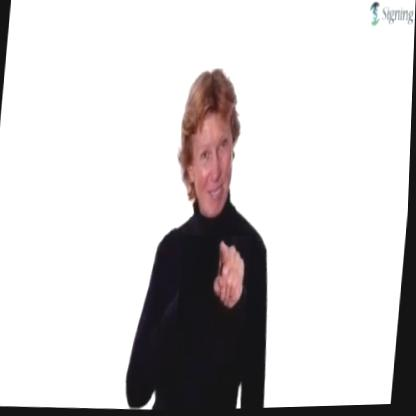NiceToMeetYou: (177, 234, 253, 336)
